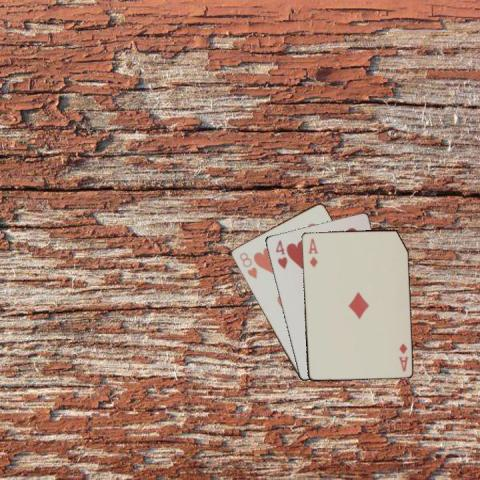4h: (273, 236, 288, 270)
8h: (236, 249, 259, 281)
Ad: (305, 235, 319, 269), (396, 340, 409, 373)
